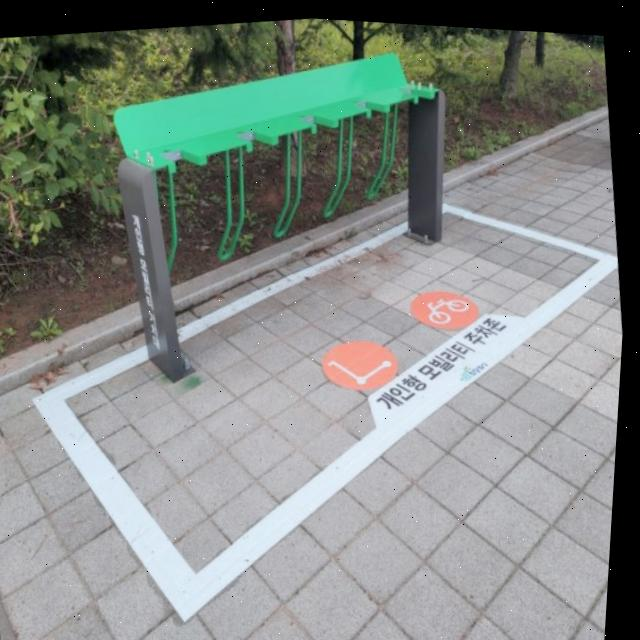parking_zone: (94, 65, 502, 519)
